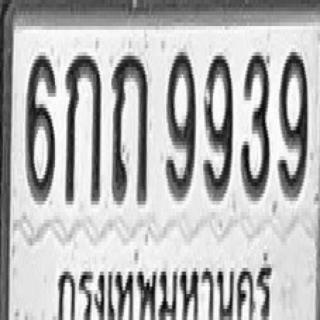A01: (64, 50, 101, 203)
A22: (111, 50, 148, 203)
N03: (241, 48, 269, 197)
N06: (26, 52, 55, 201)
N09: (278, 48, 307, 197), (166, 48, 195, 197), (203, 52, 232, 197)
P04: (48, 248, 276, 320)
